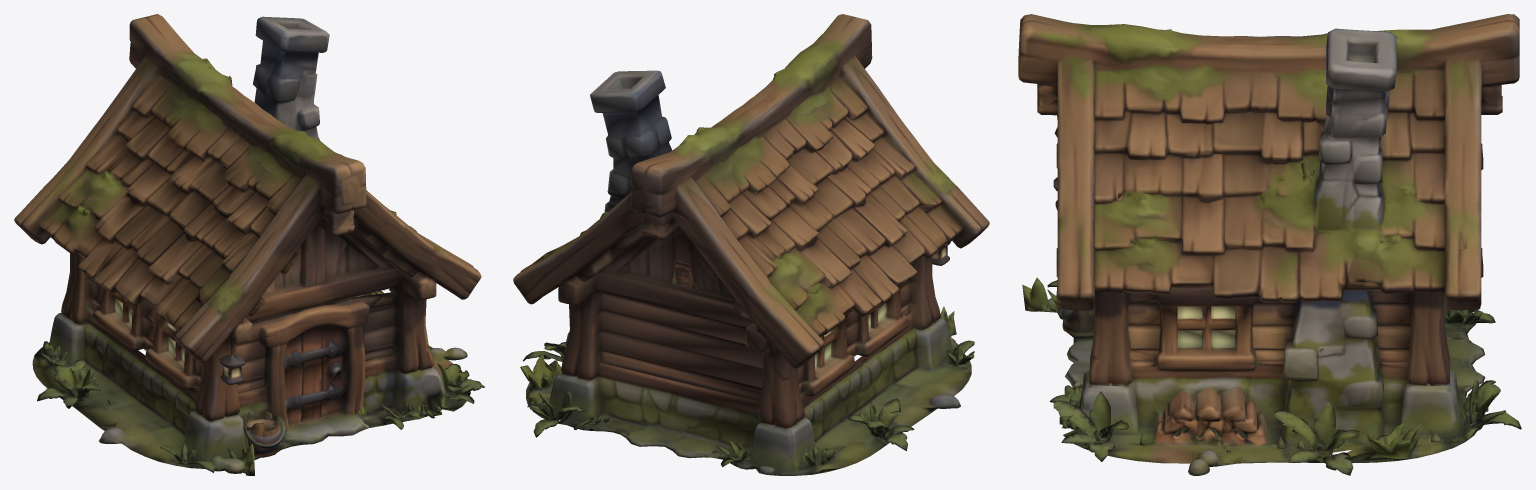
The model's file is simple dwarven hut 3d model.glb.
The picture shows the model from 3 angles, left to right: view 1: azimuth 30°, elevation 25°; view 2: azimuth 150°, elevation 25°; view 3: azimuth 270°, elevation 25°; orthographic projection. The views are drawn at different scales.
Visible parts, largest first — view 1: tripo_node_b6db5b1d-f2c5-4db0-8abb-85d65870f97b; view 2: tripo_node_b6db5b1d-f2c5-4db0-8abb-85d65870f97b; view 3: tripo_node_b6db5b1d-f2c5-4db0-8abb-85d65870f97b.
Boxes of the visible parts, x1,y1,x2,y2 form: tripo_node_b6db5b1d-f2c5-4db0-8abb-85d65870f97b: (14,14,484,475); tripo_node_b6db5b1d-f2c5-4db0-8abb-85d65870f97b: (513,14,989,475); tripo_node_b6db5b1d-f2c5-4db0-8abb-85d65870f97b: (1018,14,1521,475).
Size of the model in its own units: 0.9803 by 0.7885 by 0.9573.
1 material, 1 textured.
